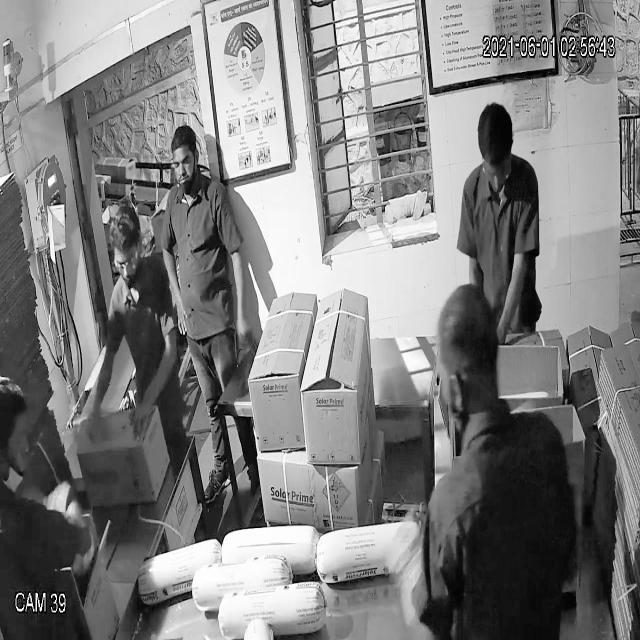glasses: (105, 243, 149, 277)
